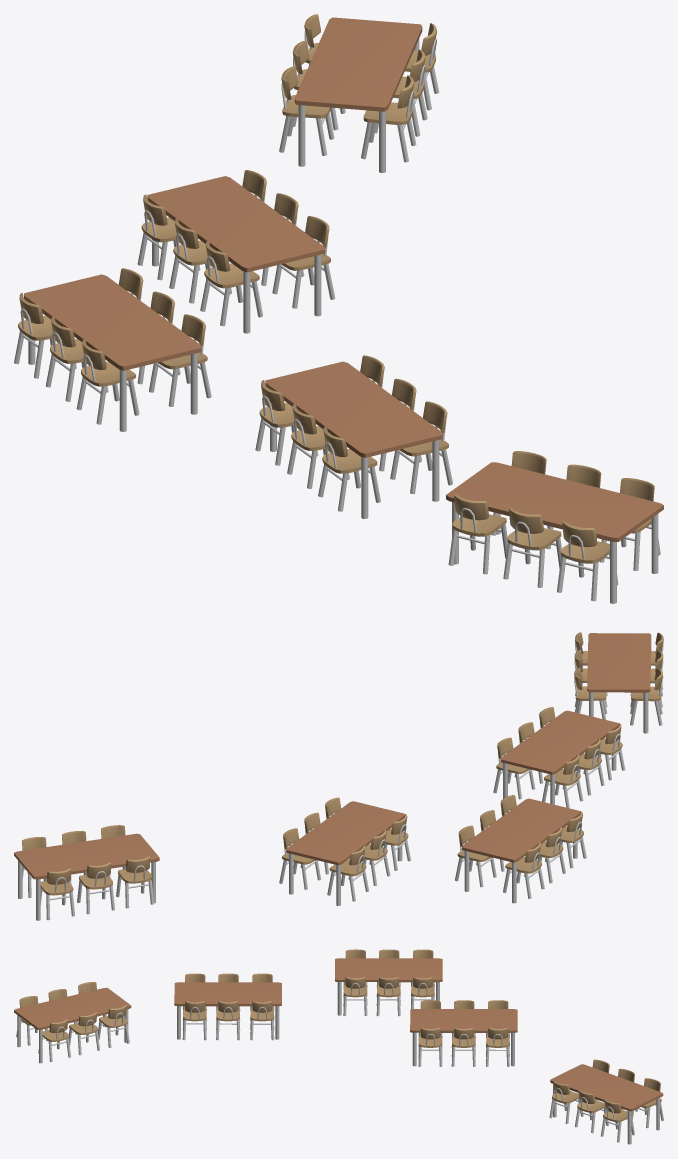
3 renders of one model, top to bottom at view 1: azimuth 30°, elevation 25°; view 2: azimuth 150°, elevation 25°; view 3: azimuth 270°, elevation 25°, orthographic. The views are drawn at different scales.
Parts seen in each view (by area): view 1: Tischgruppe 6er.012; view 2: Tischgruppe 6er.012; view 3: Tischgruppe 6er.012.
Part boxes in pixels (left/top/right/bottom): Tischgruppe 6er.012: left=14, top=14, right=663, bottom=603; Tischgruppe 6er.012: left=14, top=632, right=663, bottom=920; Tischgruppe 6er.012: left=14, top=949, right=663, bottom=1144.
Size of the model in its own units: 9.46 by 1.18 by 16.6.
Materials: 1 (1 with a texture image).
